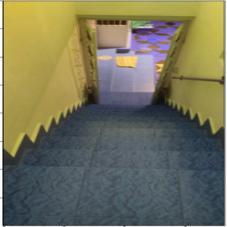Stair Down: (3, 101, 224, 178)
